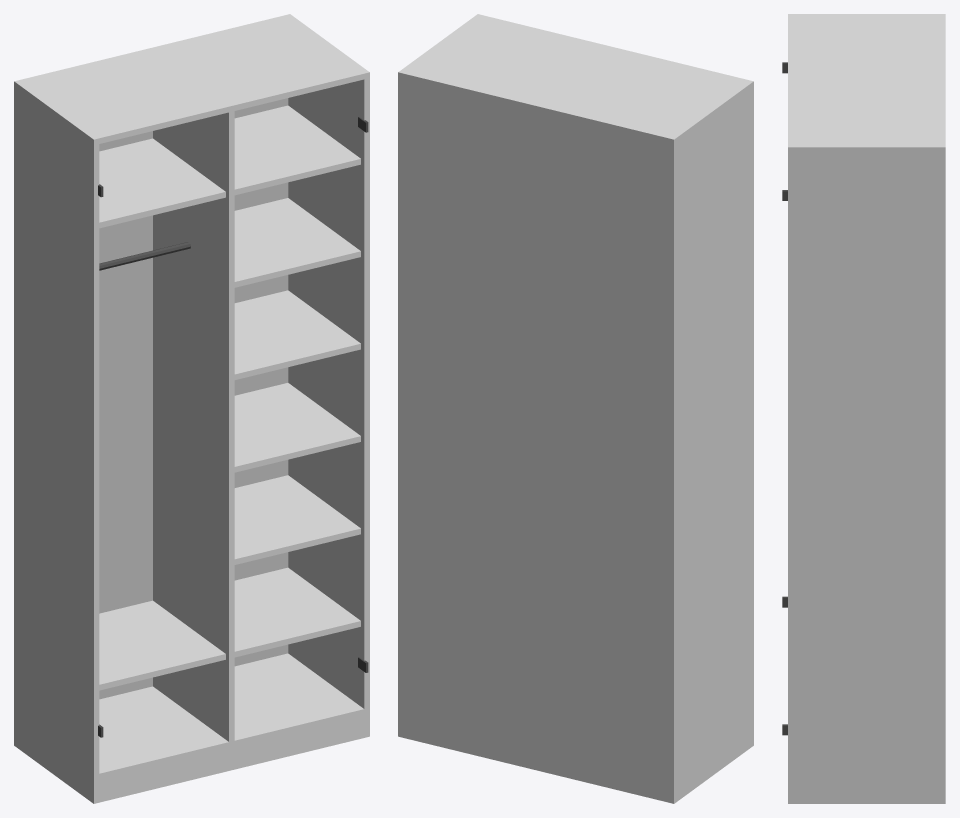
Rendered from Wardrobe4_C1.fbx.
3 views of the same model, side by side, from view 1: azimuth 30°, elevation 25°; view 2: azimuth 150°, elevation 25°; view 3: azimuth 270°, elevation 25° (orthographic).
Visible parts, largest first — view 1: Wardrobe4_C1; view 2: Wardrobe4_C1; view 3: Wardrobe4_C1.
Part boxes in pixels (x1,y1,x2,y2): Wardrobe4_C1: (14,14,369,803); Wardrobe4_C1: (398,14,753,803); Wardrobe4_C1: (782,14,945,803).
Bounding box in the file's own units: 100 × 230 × 51.79.
